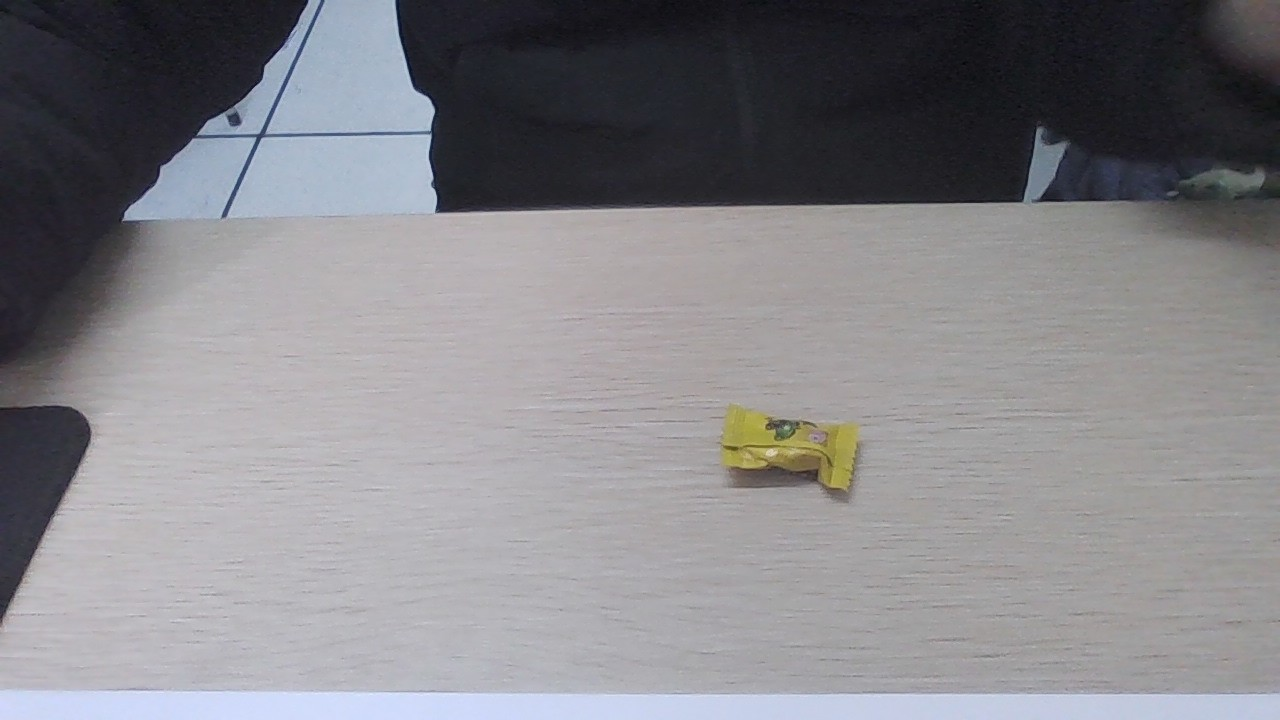CY-sugar: (711, 404, 855, 484)
